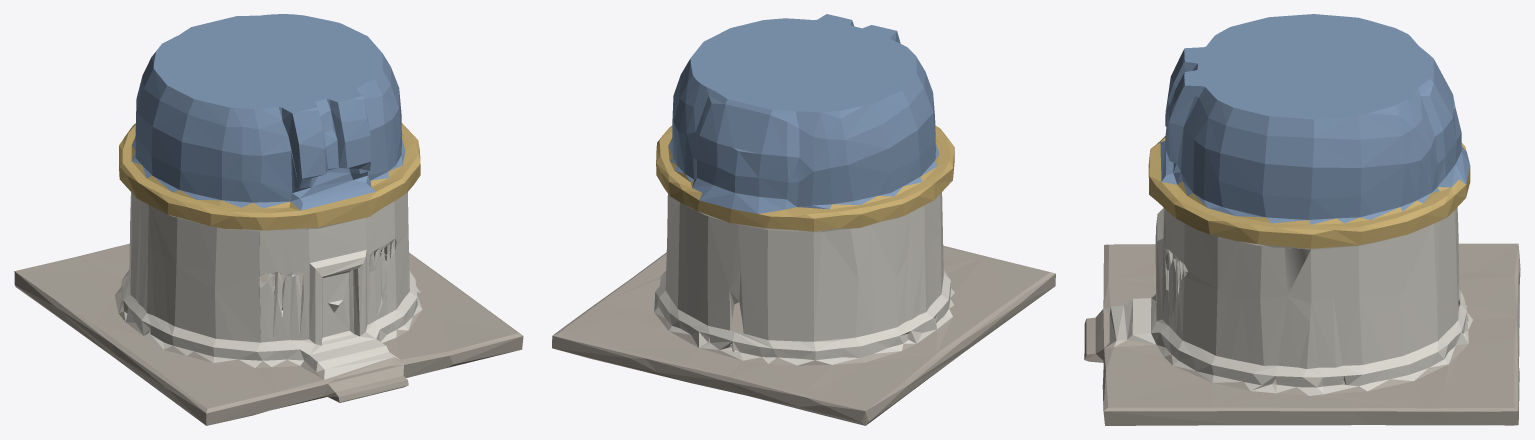
Rendered from etape-2.glb.
3 renders of one model, left to right at view 1: azimuth 30°, elevation 25°; view 2: azimuth 150°, elevation 25°; view 3: azimuth 270°, elevation 25°, orthographic. The views are drawn at different scales.
Parts seen in each view (by area): view 1: geometry_0; view 2: geometry_0; view 3: geometry_0.
Part boxes in pixels (x1,y1,x2,y2): geometry_0: [14, 14, 523, 425]; geometry_0: [552, 14, 1055, 425]; geometry_0: [1084, 14, 1520, 425].
Size of the model in its own units: 0.8536 by 0.6602 by 0.9377.
